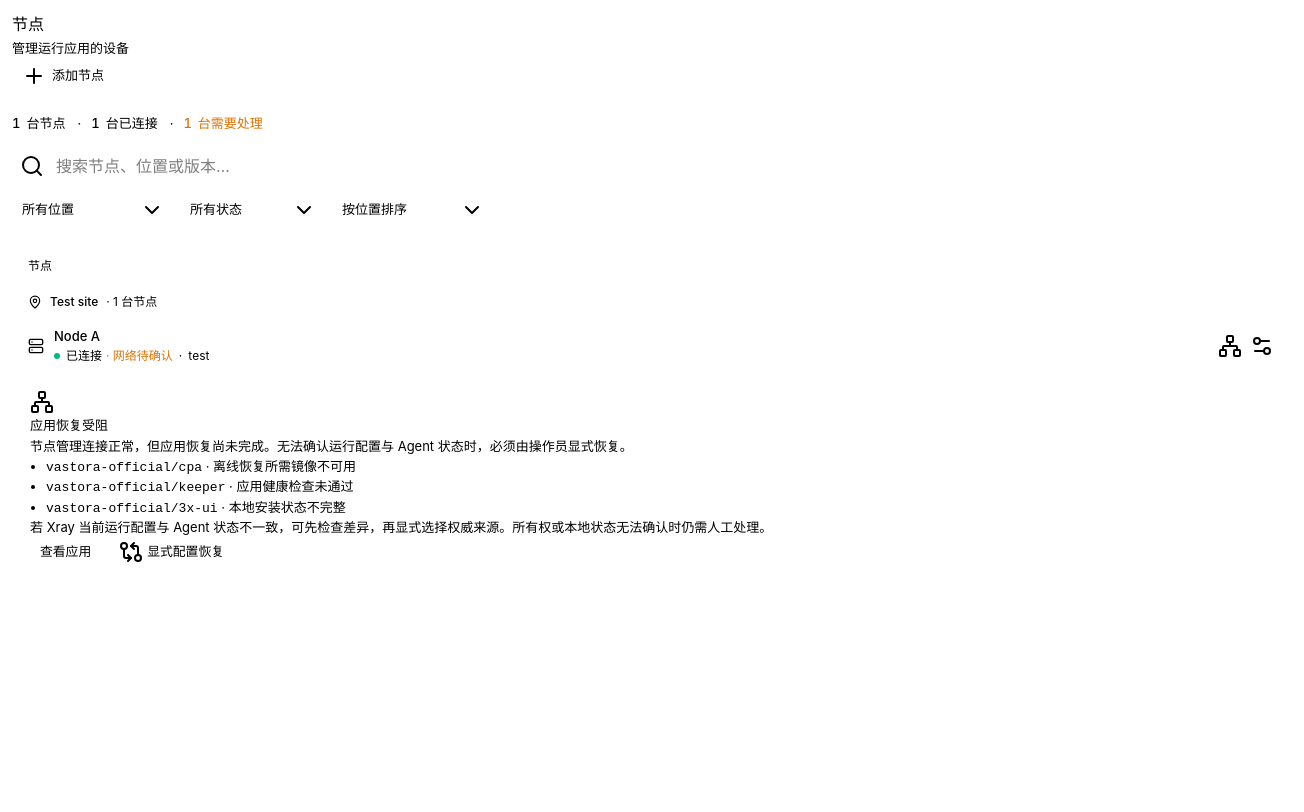
Test case: shows affected applications and repair guidance even while the node is connected
The image size is (1304, 812).
Click the button "查看应用" at (66, 552), box [30,538,101,566]
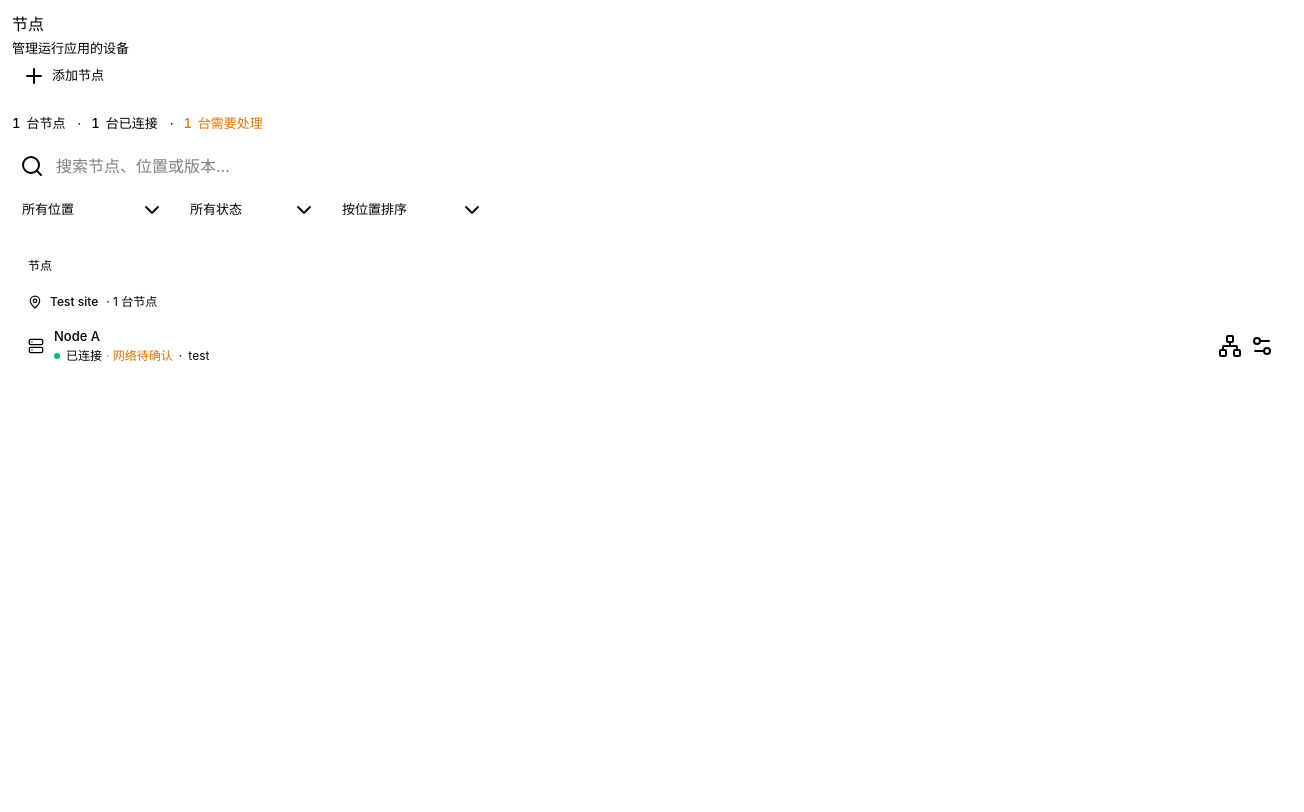
Check: the text "应用恢复受阻" is gone
Check: the text "离线恢复所需镜像不可用" is gone
